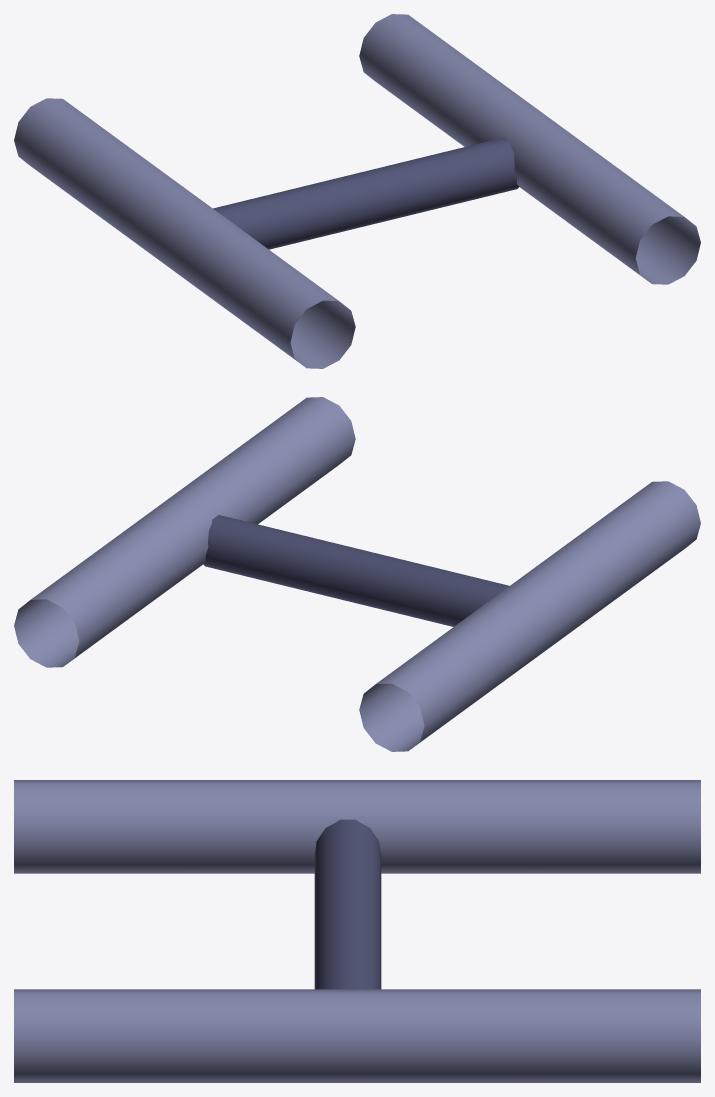
The model's file is Rail_5.fbx.
3 views of the same model, one above another, from view 1: azimuth 30°, elevation 25°; view 2: azimuth 150°, elevation 25°; view 3: azimuth 270°, elevation 25° (orthographic). The views are drawn at different scales.
Visible parts, largest first — view 1: Rail_5; view 2: Rail_5; view 3: Rail_5.
Boxes of the visible parts, bbox=[...] form: Rail_5: bbox=[14, 14, 700, 368]; Rail_5: bbox=[14, 397, 700, 751]; Rail_5: bbox=[14, 780, 700, 1082].
Bounding box in the file's own units: 274 × 43.6 × 319.
